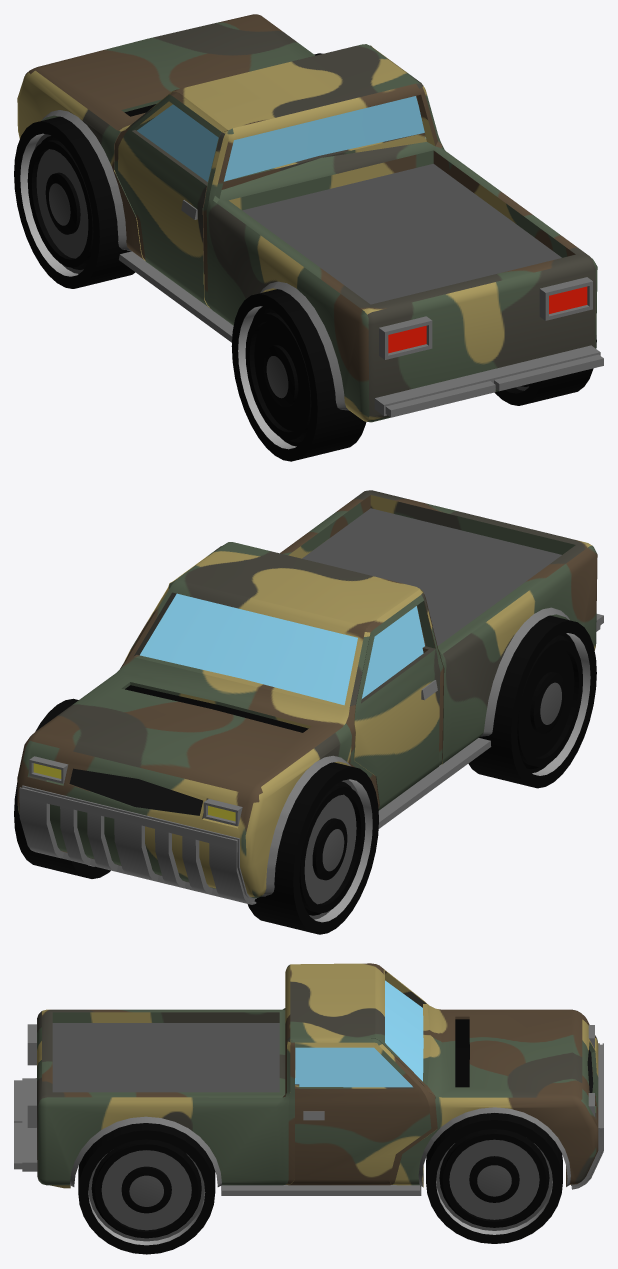
The model's file is truck.fbx.
3 views of the same model, one above another, from view 1: azimuth 30°, elevation 25°; view 2: azimuth 150°, elevation 25°; view 3: azimuth 270°, elevation 25° (orthographic). The views are drawn at different scales.
Parts seen in each view (by area): view 1: Cube, Cylinder.001, Cylinder, Cylinder.003; view 2: Cube, Cylinder, Cylinder.001, Cylinder.002; view 3: Cube, Cylinder.003, Cylinder.002.
Part boxes in pixels (left/top/right/bottom): Cube: left=17, top=14, right=603, bottom=422; Cylinder.001: left=231, top=289, right=366, bottom=461; Cylinder: left=14, top=116, right=135, bottom=288; Cylinder.003: left=494, top=335, right=596, bottom=405; Cube: left=17, top=490, right=603, bottom=904; Cylinder: left=247, top=762, right=378, bottom=934; Cylinder.001: left=468, top=615, right=596, bottom=788; Cylinder.002: left=14, top=698, right=110, bottom=878; Cube: left=14, top=963, right=603, bottom=1195; Cylinder.003: left=78, top=1123, right=215, bottom=1254; Cylinder.002: left=426, top=1113, right=562, bottom=1243.
Size of the model in its own units: 209 by 179 by 480.
Materials: 2 (2 with a texture image).
